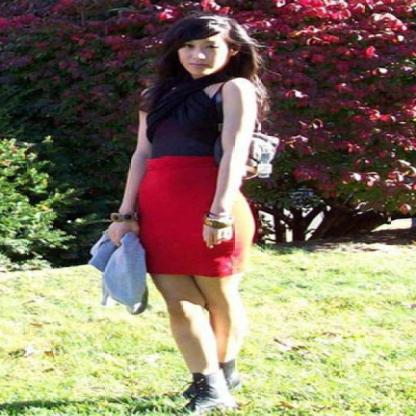shirt: (146, 84, 222, 164)
shoe: (163, 353, 238, 415)
skirt: (124, 156, 240, 288)
